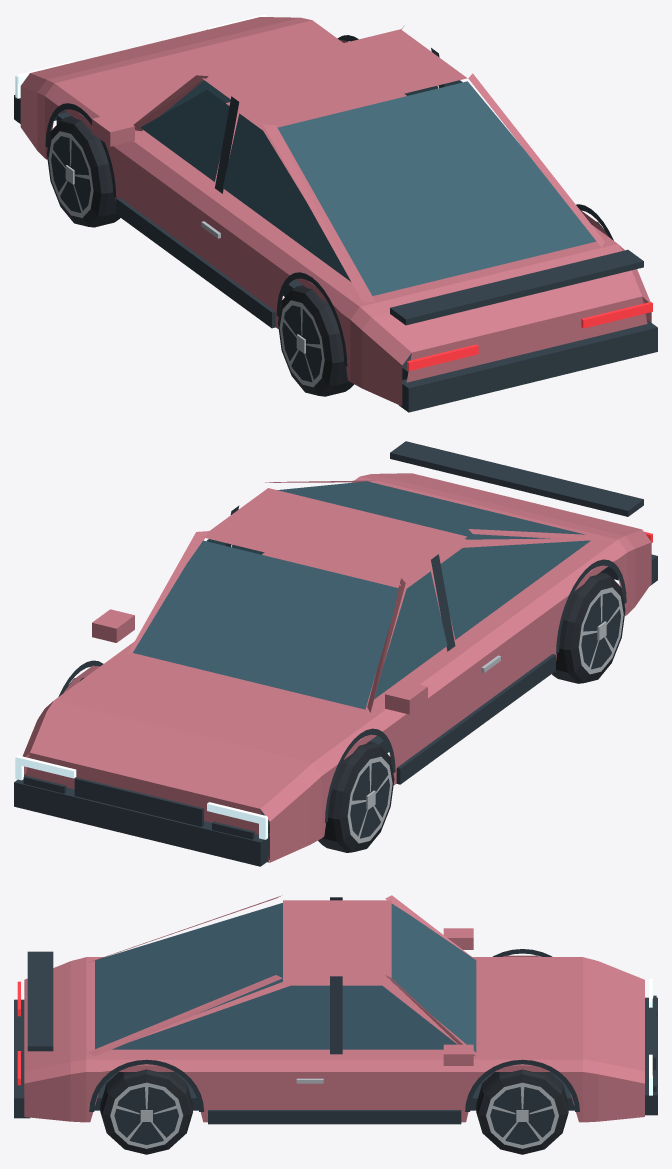
Rendered from aero_f.glb.
3 renders of one model, top to bottom at view 1: azimuth 30°, elevation 25°; view 2: azimuth 150°, elevation 25°; view 3: azimuth 270°, elevation 25°, orthographic. The views are drawn at different scales.
Parts seen in each view (by area): view 1: Body, Wheel_2, Wheel_0; view 2: Body, Wheel_0, Wheel_2; view 3: Body, Wheel_3, Wheel_1.
Part boxes in pixels (box(x1,y1,x2,y2)): Body: box(14, 14, 657, 412); Wheel_2: box(278, 285, 354, 396); Wheel_0: box(47, 116, 120, 227); Body: box(14, 441, 657, 866); Wheel_0: box(318, 741, 394, 852); Wheel_2: box(552, 572, 625, 683); Body: box(14, 895, 657, 1124); Wheel_3: box(100, 1069, 192, 1154); Wheel_1: box(476, 1069, 568, 1154).
Bounding box in the file's own units: 2.19 × 1.31 × 4.73.
